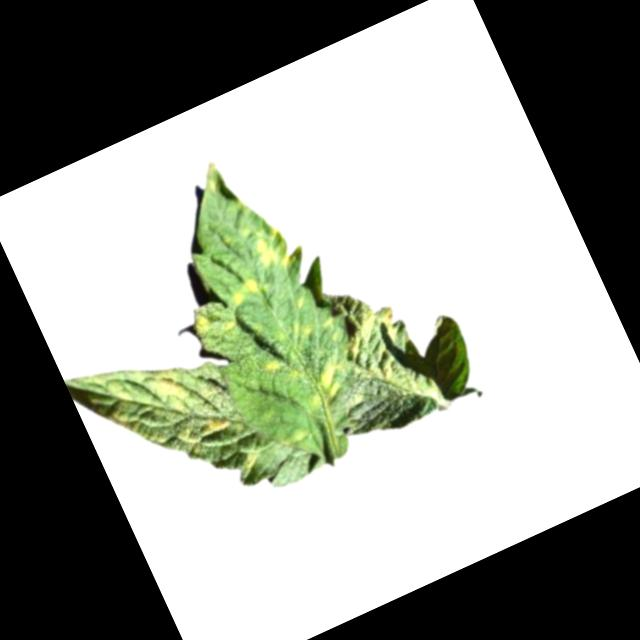Leaf_Mold: (67, 321, 264, 528), (334, 299, 419, 392), (185, 275, 274, 349), (238, 215, 302, 280), (291, 357, 347, 415), (257, 354, 282, 377)
